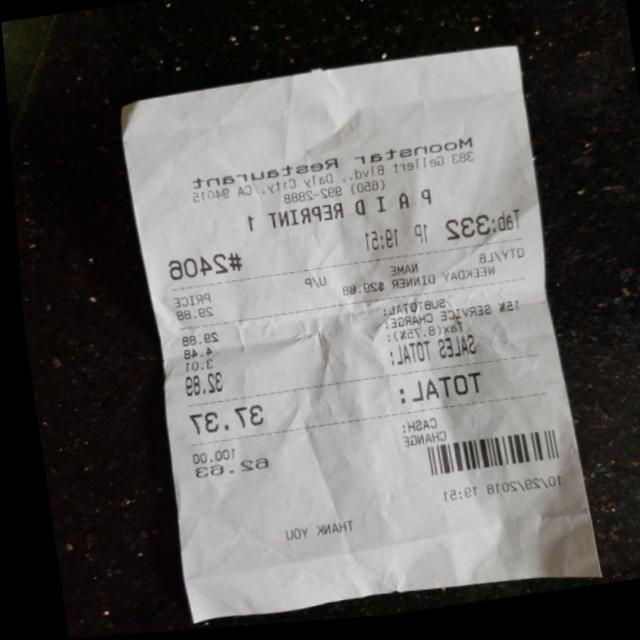Paper: (110, 42, 594, 634)
